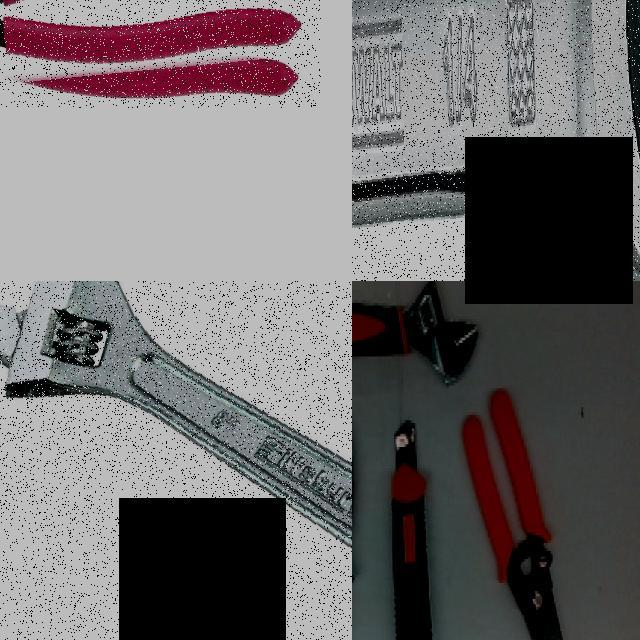estilete: (391, 421, 431, 639)
